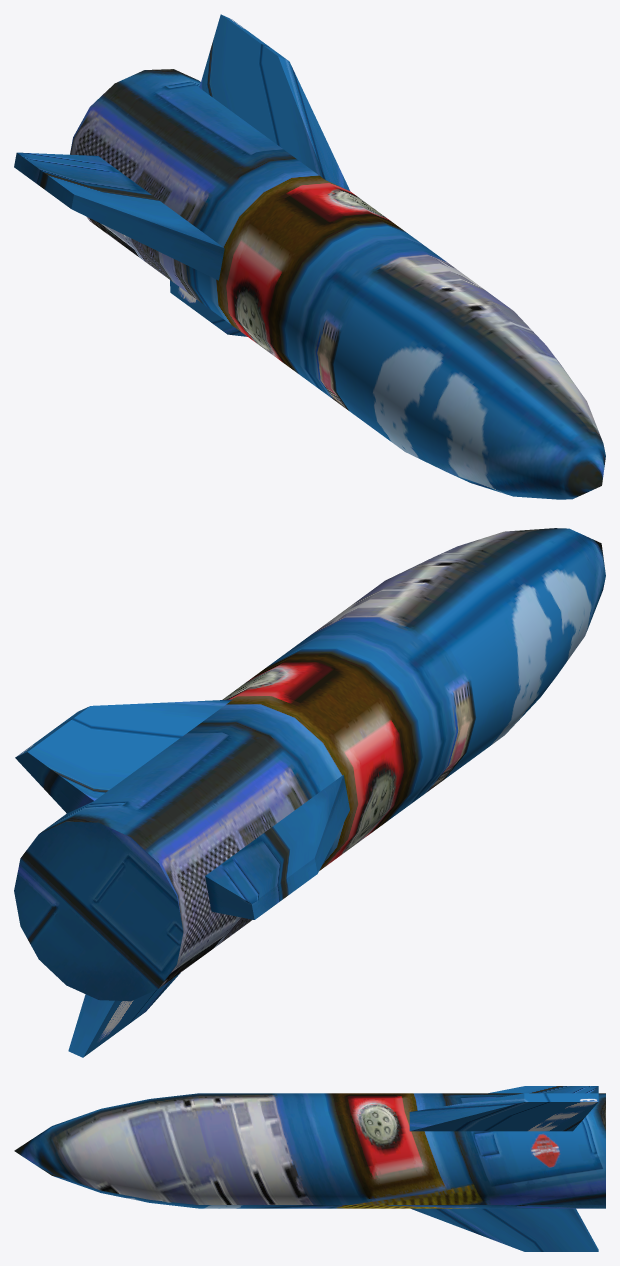
Rendered from BulletB.obj.
The picture shows the model from 3 angles, top to bottom: view 1: azimuth 30°, elevation 25°; view 2: azimuth 150°, elevation 25°; view 3: azimuth 270°, elevation 25°; orthographic projection. The views are drawn at different scales.
Parts seen in each view (by area): view 1: Cylinder001; view 2: Cylinder001; view 3: Cylinder001.
Boxes of the visible parts, box(x1,y1,x2,y2) form: Cylinder001: box(14, 14, 605, 499); Cylinder001: box(14, 528, 605, 1057); Cylinder001: box(14, 1086, 605, 1251).
Size of the model in its own units: 28.4 by 33.09 by 103.
Materials: 1 (1 with a texture image).
